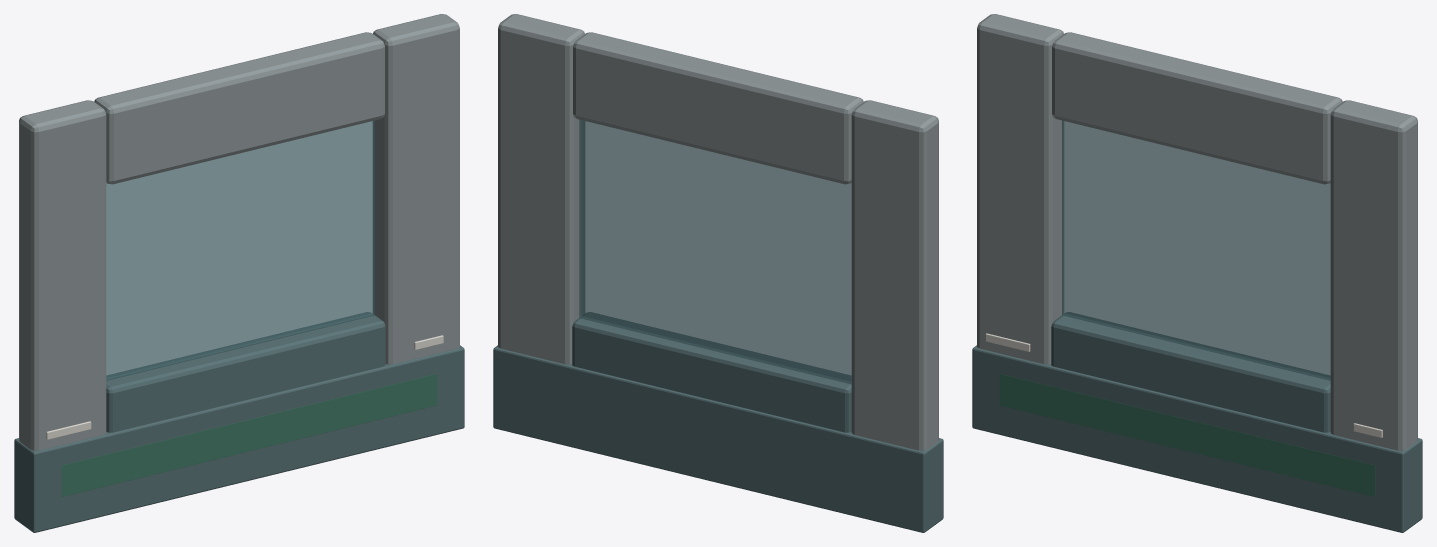
The model's file is SM_FC01_Wall_Window_A.fbx.
The picture shows the model from 3 angles, left to right: view 1: azimuth 30°, elevation 25°; view 2: azimuth 150°, elevation 25°; view 3: azimuth 330°, elevation 25°; orthographic projection.
Visible parts, largest first — view 1: SM_FC01_Wall_Window_A_Glass, SM_FC01_Wall_Window_A_L, SM_FC01_Wall_Window_A_R, SM_FC01_Wall_Window_A_Top, SM_FC01_Wall_Window_A_WetBand, SM_FC01_Wall_Window_A_Sill, SM_FC01_Wall_Window_A_AlgaeBand; view 2: SM_FC01_Wall_Window_A_Glass, SM_FC01_Wall_Window_A_WetBand, SM_FC01_Wall_Window_A_L, SM_FC01_Wall_Window_A_R, SM_FC01_Wall_Window_A_Top, SM_FC01_Wall_Window_A_Sill; view 3: SM_FC01_Wall_Window_A_Glass, SM_FC01_Wall_Window_A_R, SM_FC01_Wall_Window_A_L, SM_FC01_Wall_Window_A_Top, SM_FC01_Wall_Window_A_WetBand, SM_FC01_Wall_Window_A_Sill, SM_FC01_Wall_Window_A_AlgaeBand.
Part boxes in pixels (x1,y1,x2,y2): SM_FC01_Wall_Window_A_Glass: (106, 120, 374, 380); SM_FC01_Wall_Window_A_L: (19, 100, 106, 450); SM_FC01_Wall_Window_A_R: (373, 14, 459, 364); SM_FC01_Wall_Window_A_Top: (94, 32, 384, 184); SM_FC01_Wall_Window_A_WetBand: (14, 345, 464, 532); SM_FC01_Wall_Window_A_Sill: (106, 312, 385, 432); SM_FC01_Wall_Window_A_AlgaeBand: (61, 374, 437, 496); SM_FC01_Wall_Window_A_Glass: (579, 119, 851, 384); SM_FC01_Wall_Window_A_WetBand: (493, 345, 943, 532); SM_FC01_Wall_Window_A_L: (851, 100, 938, 450); SM_FC01_Wall_Window_A_R: (498, 14, 584, 364); SM_FC01_Wall_Window_A_Top: (573, 32, 863, 184); SM_FC01_Wall_Window_A_Sill: (572, 312, 851, 432); SM_FC01_Wall_Window_A_Glass: (1062, 120, 1330, 380); SM_FC01_Wall_Window_A_R: (1330, 100, 1417, 450); SM_FC01_Wall_Window_A_L: (977, 14, 1063, 364); SM_FC01_Wall_Window_A_Top: (1052, 32, 1342, 184); SM_FC01_Wall_Window_A_WetBand: (972, 345, 1422, 532); SM_FC01_Wall_Window_A_Sill: (1051, 312, 1330, 432); SM_FC01_Wall_Window_A_AlgaeBand: (999, 374, 1375, 496).
Size of the model in its own units: 4.03 by 3.61 by 0.3256.
